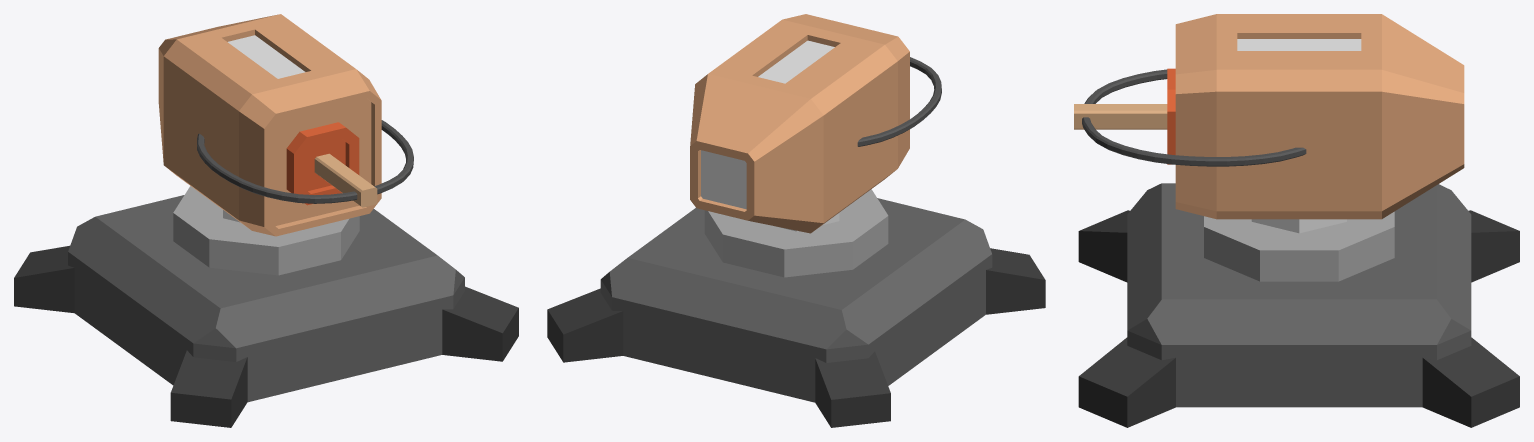
File: Laser_TD_2.fbx
3 views of the same model, side by side, from view 1: azimuth 30°, elevation 25°; view 2: azimuth 150°, elevation 25°; view 3: azimuth 270°, elevation 25° (orthographic). The views are drawn at different scales.
Parts seen in each view (by area): view 1: Stand.002, Cube.001; view 2: Stand.002, Cube.001; view 3: Stand.002, Cube.001.
Part boxes in pixels (<box>): Stand.002: <box>14,186,518,427</box>; Cube.001: <box>158,14,413,236</box>; Stand.002: <box>547,189,1045,427</box>; Cube.001: <box>690,14,941,233</box>; Stand.002: <box>1078,183,1519,427</box>; Cube.001: <box>1074,14,1464,219</box>.
Bounding box in the file's own units: 641 × 470 × 648.
